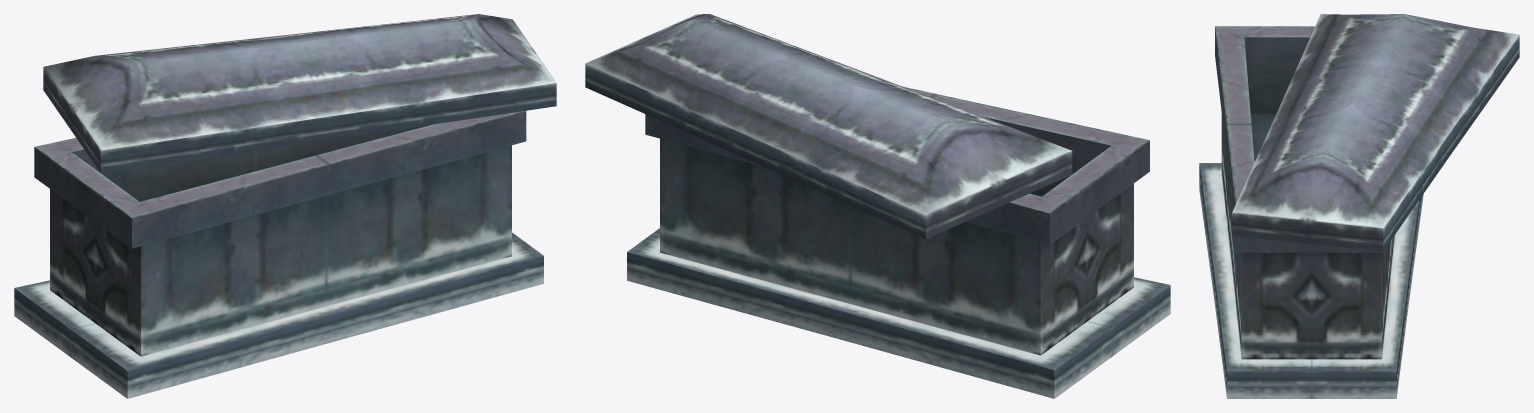
The model's file is yw_anxizhidi_guancai.FBX.
3 renders of one model, left to right at view 1: azimuth 30°, elevation 25°; view 2: azimuth 150°, elevation 25°; view 3: azimuth 270°, elevation 25°, orthographic. The views are drawn at different scales.
Parts seen in each view (by area): view 1: yw_anxizhidi_guancai; view 2: yw_anxizhidi_guancai; view 3: yw_anxizhidi_guancai.
Part boxes in pixels (box(x1,y1,x2,y2)): yw_anxizhidi_guancai: box(14, 14, 556, 398); yw_anxizhidi_guancai: box(585, 14, 1170, 398); yw_anxizhidi_guancai: box(1199, 14, 1519, 398).
Size of the model in its own units: 394 by 183 by 230.
